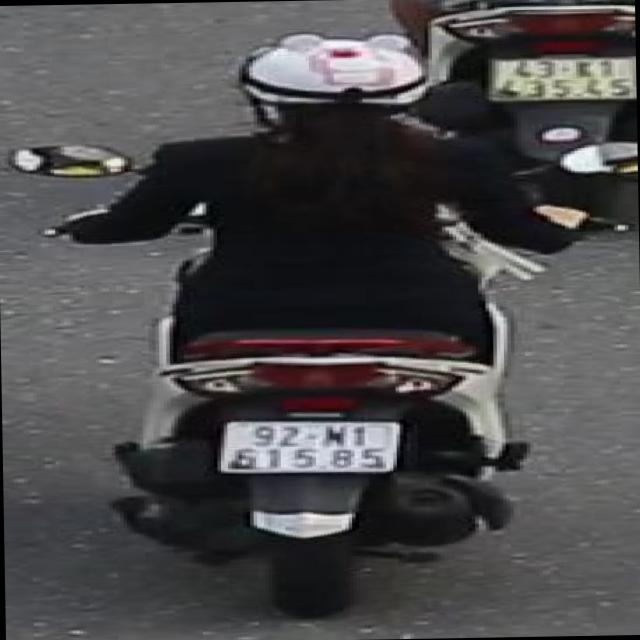LP: (212, 412, 410, 478)
helmet: (234, 24, 433, 142)
